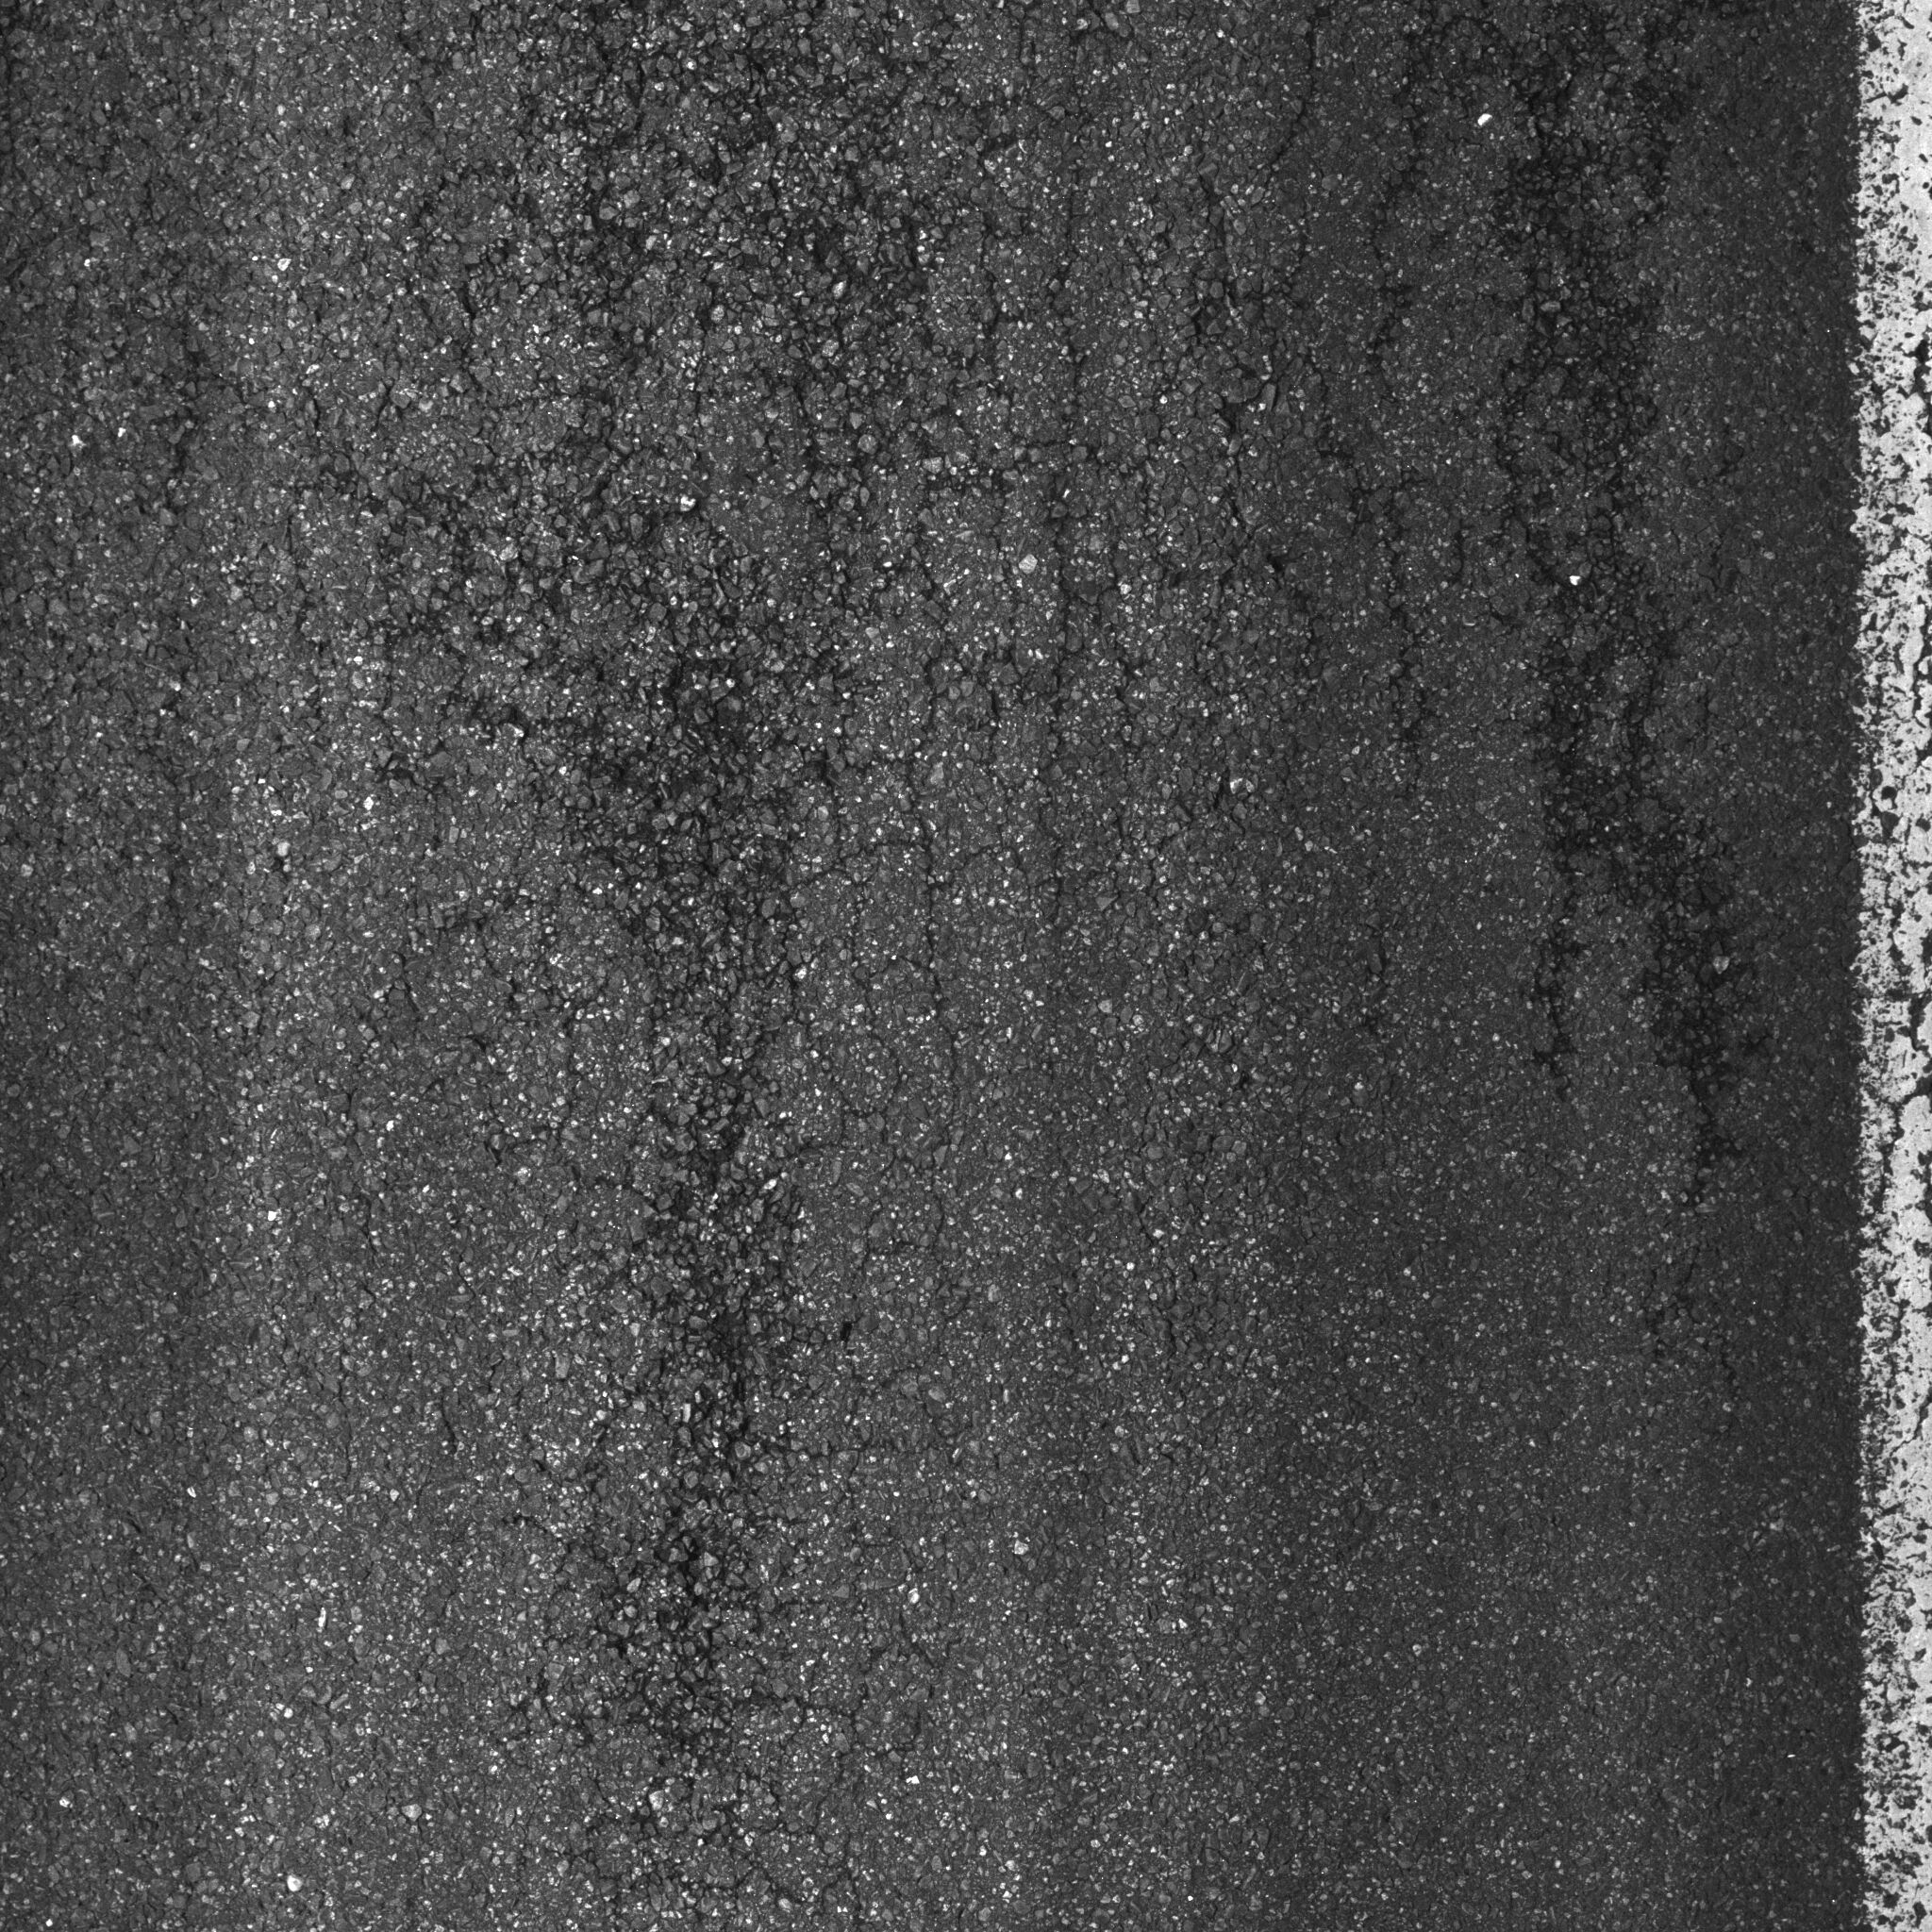alligator: (32, 2, 1790, 1725)
